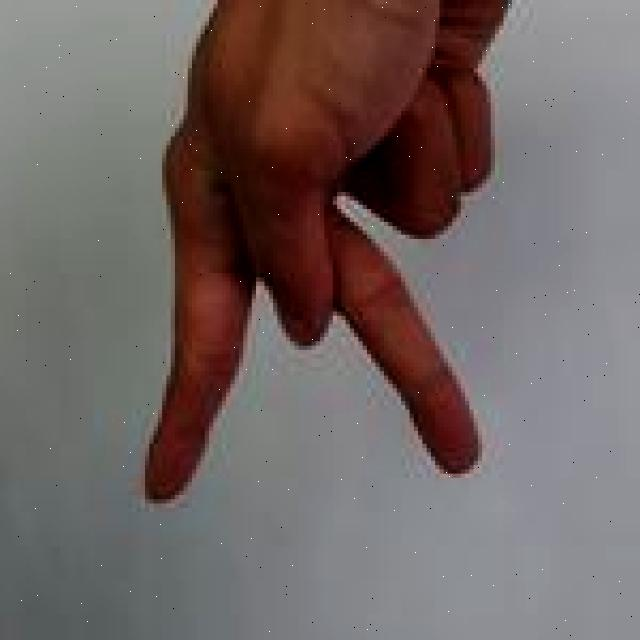P: (138, 0, 530, 509)
